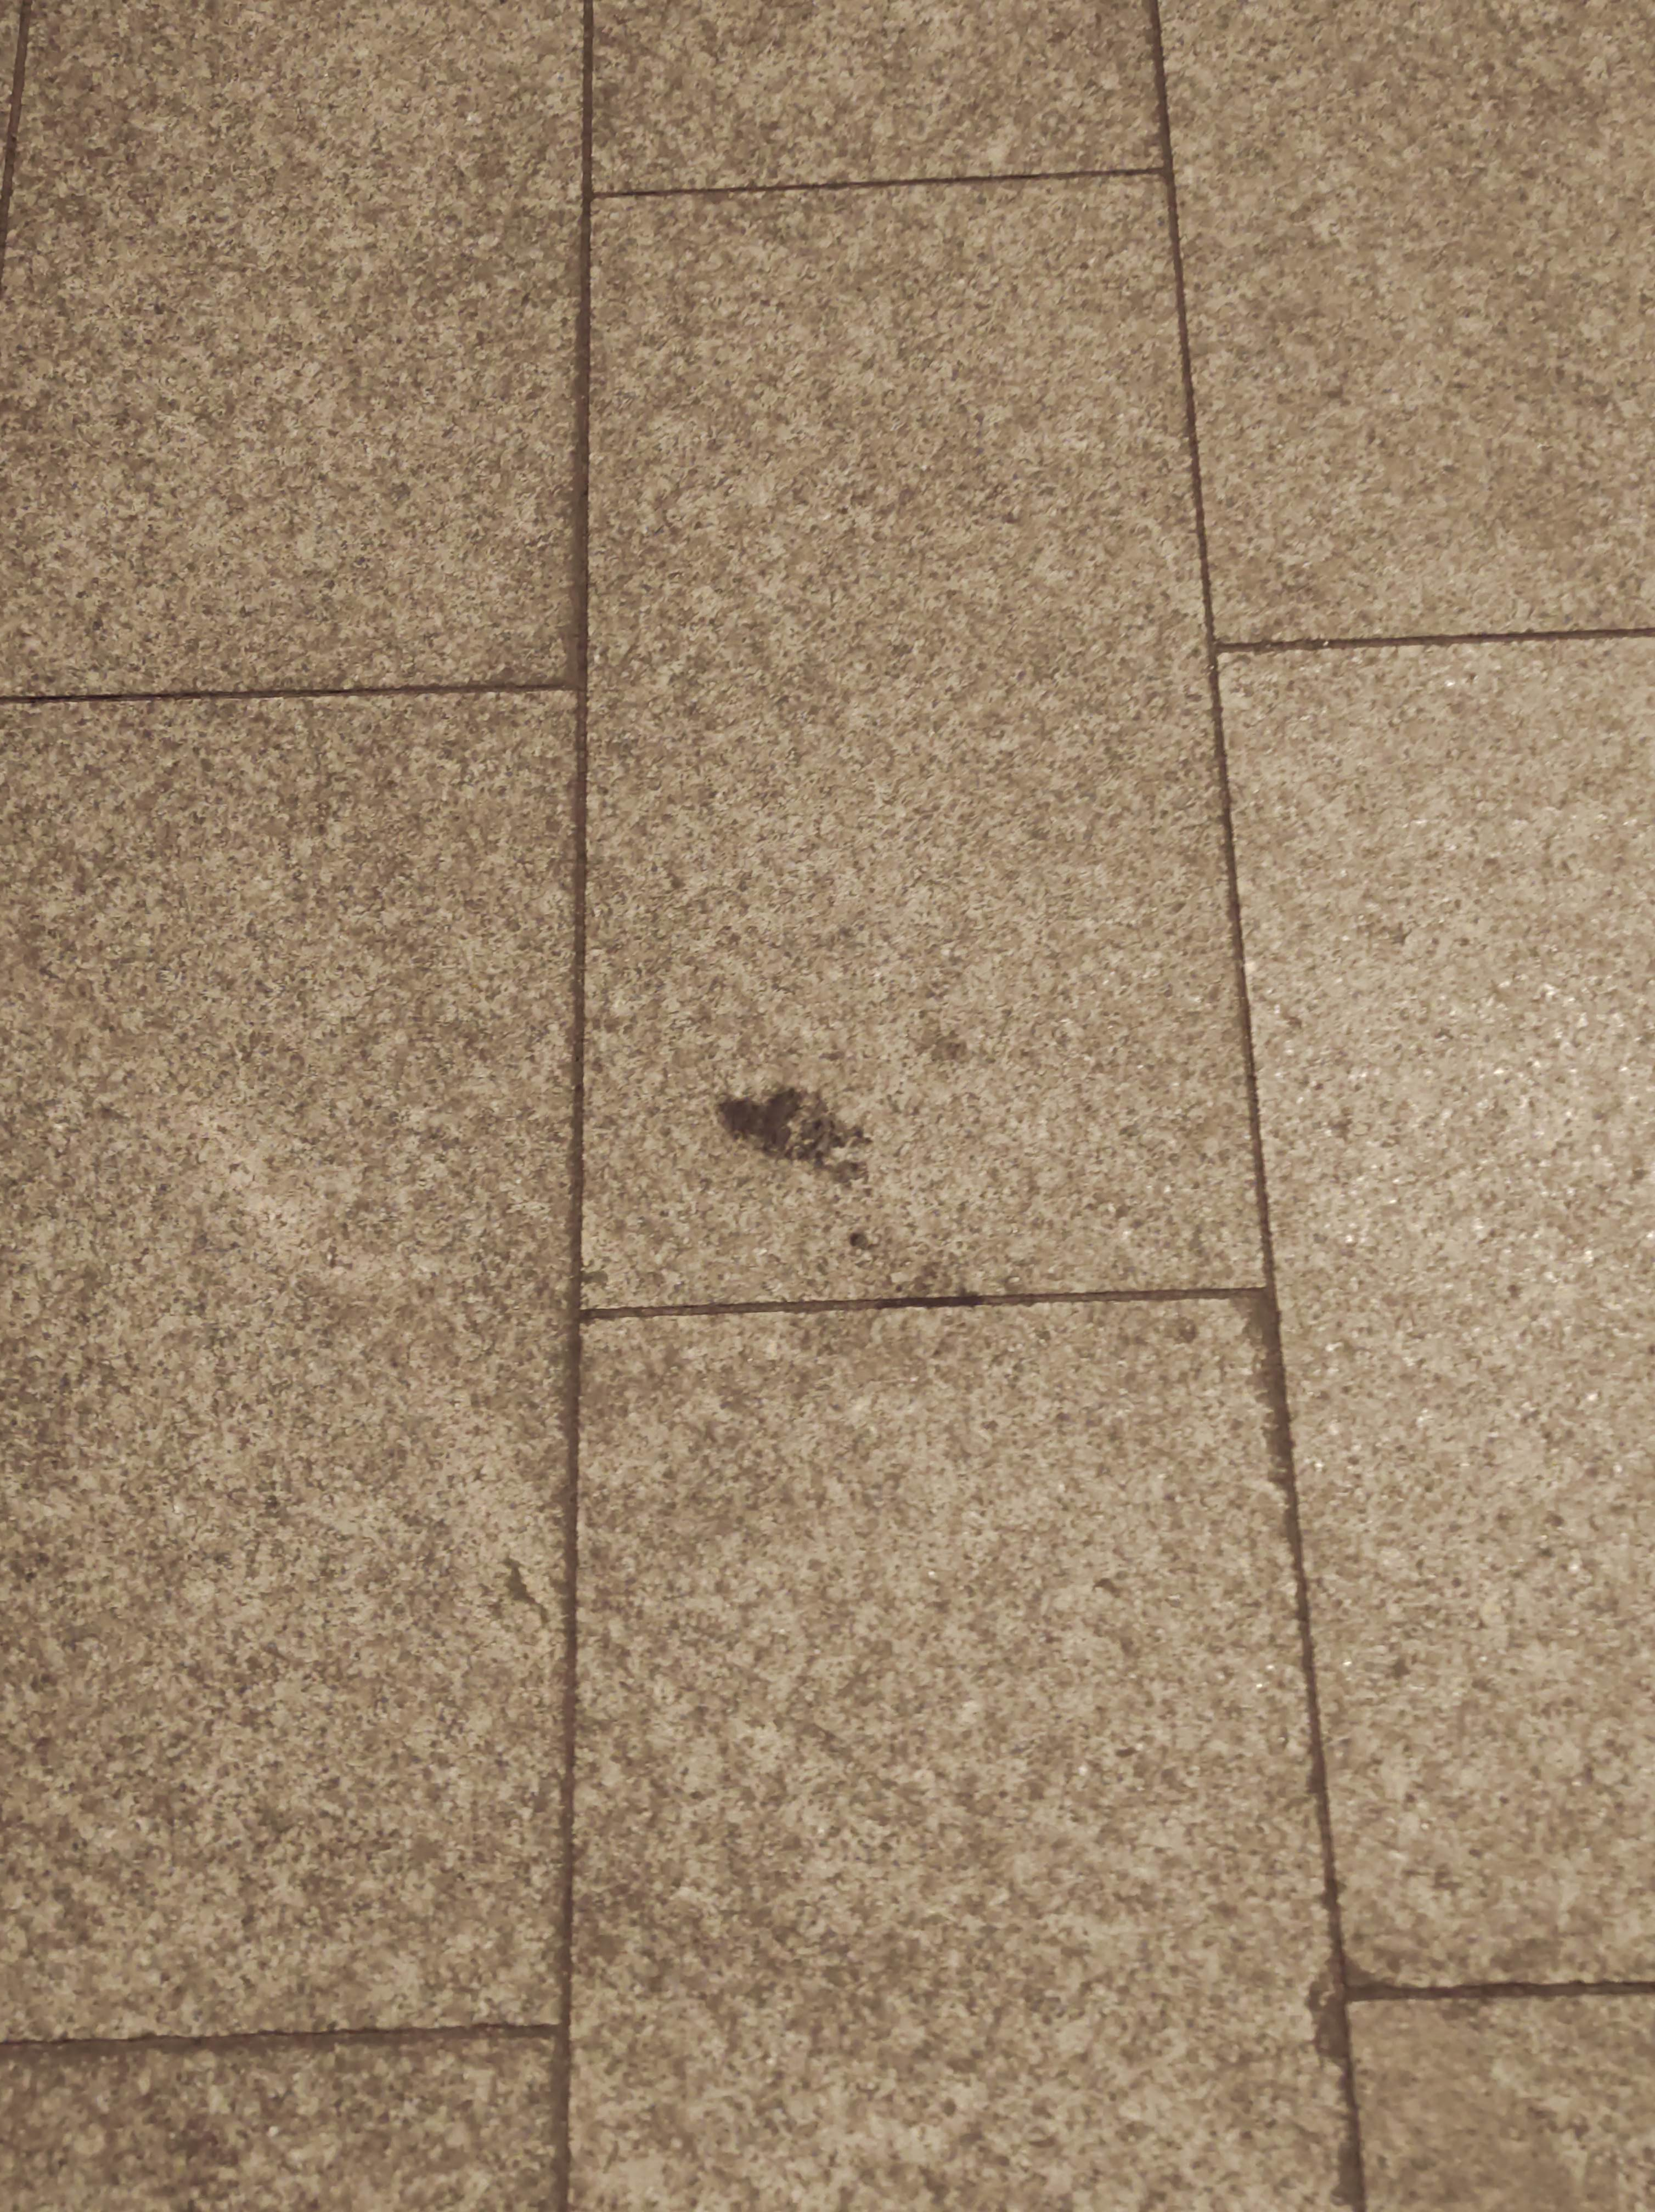grey spot: (709, 1079, 866, 1194)
